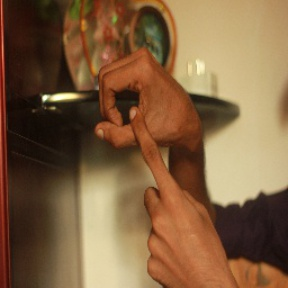Q: (83, 46, 209, 239)
